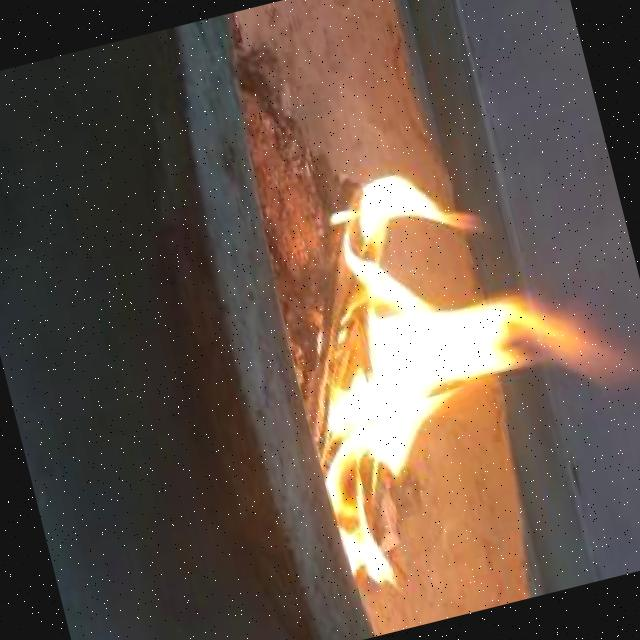fire: (243, 122, 640, 591)
